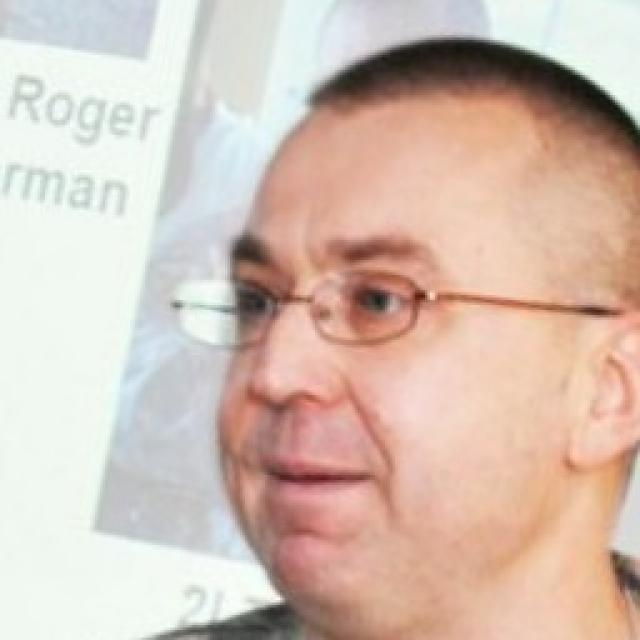glasses: (154, 279, 630, 349)
